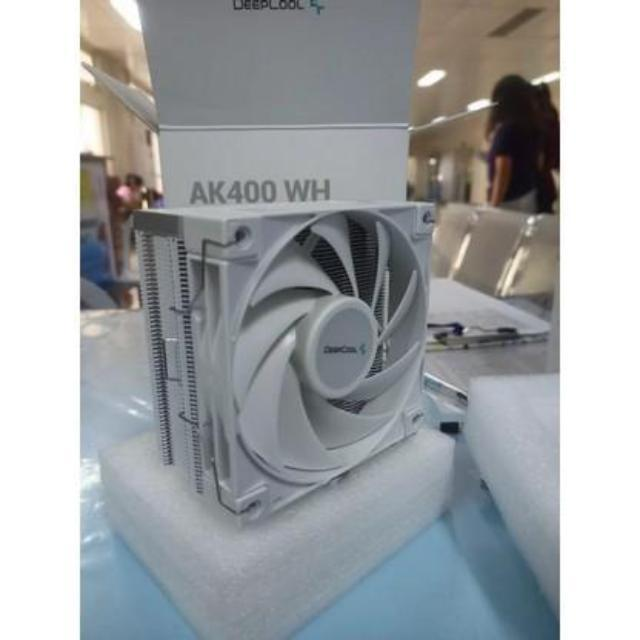CPU_Fan: (121, 190, 444, 538)
